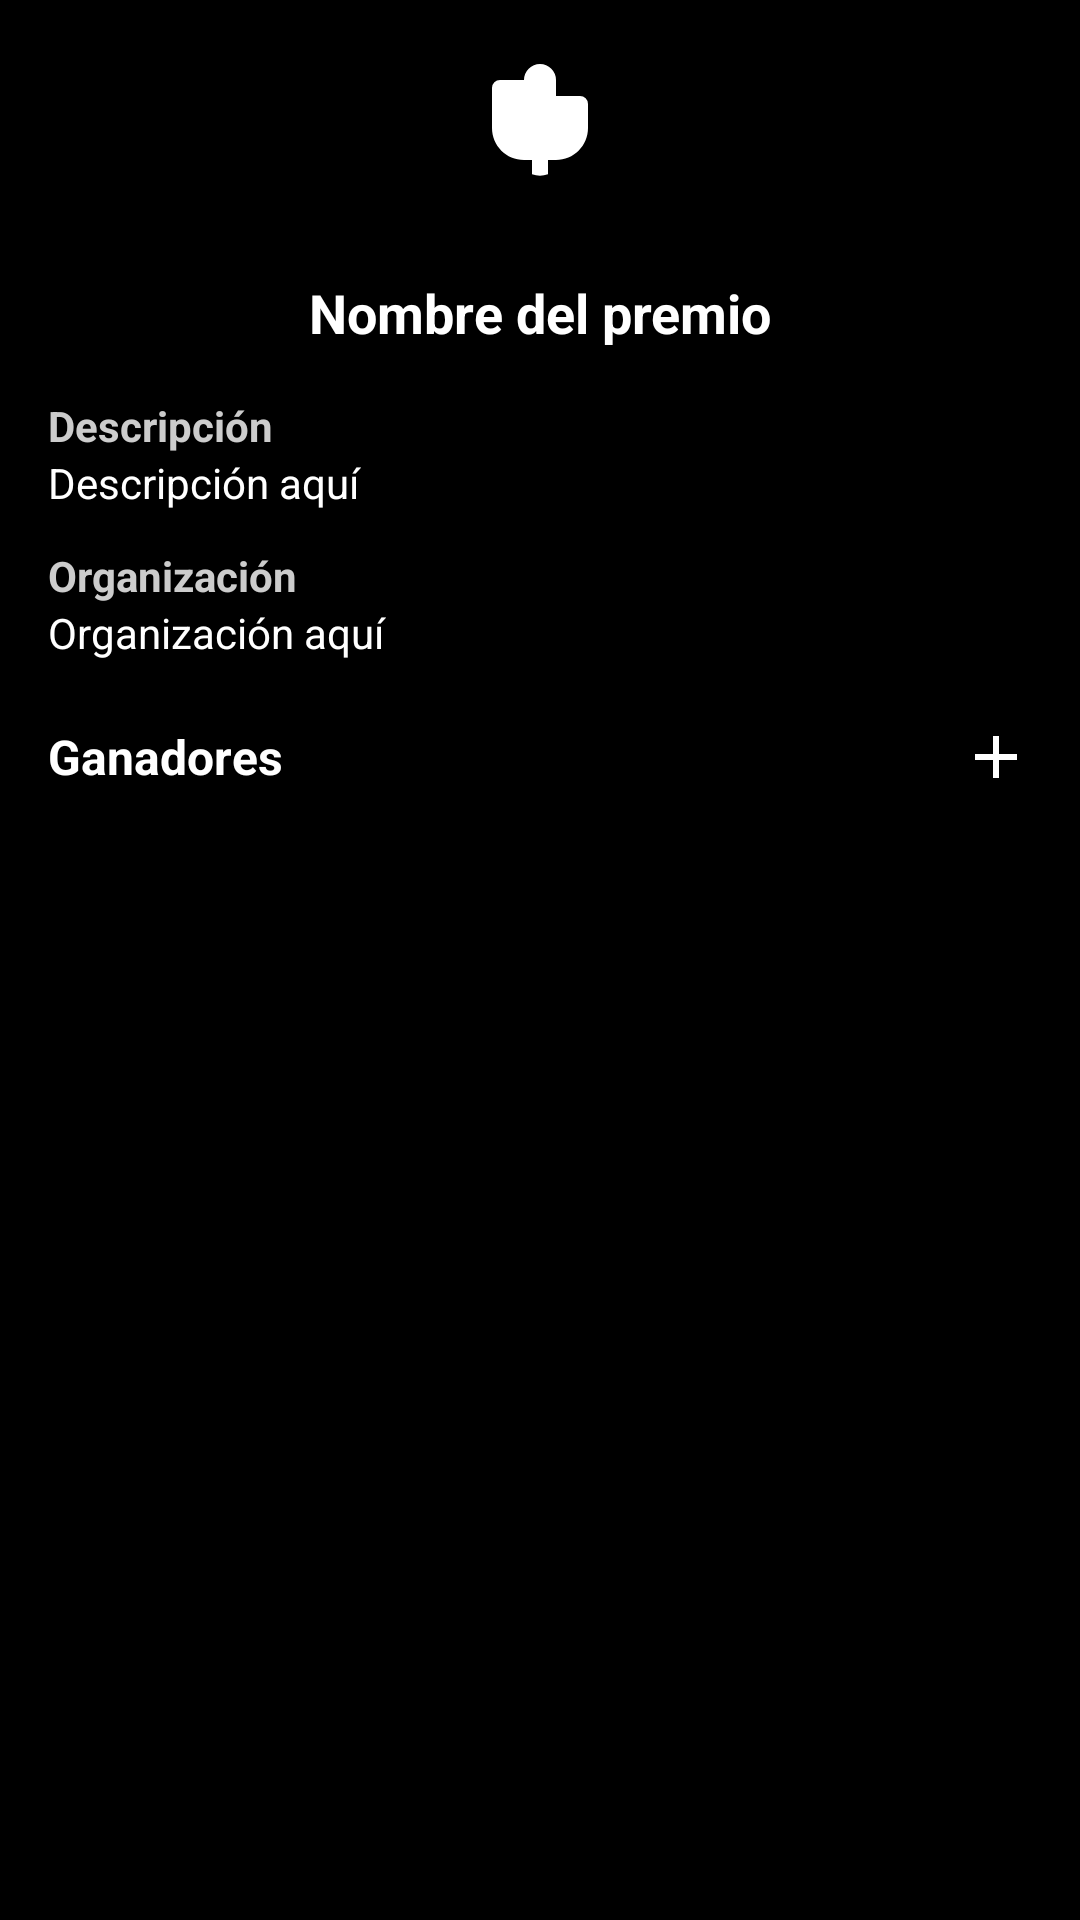

Screen size 1080 × 1920. Icon name, then its center in pixels as point (x, y):
Agregar ganador: point (996, 757)
